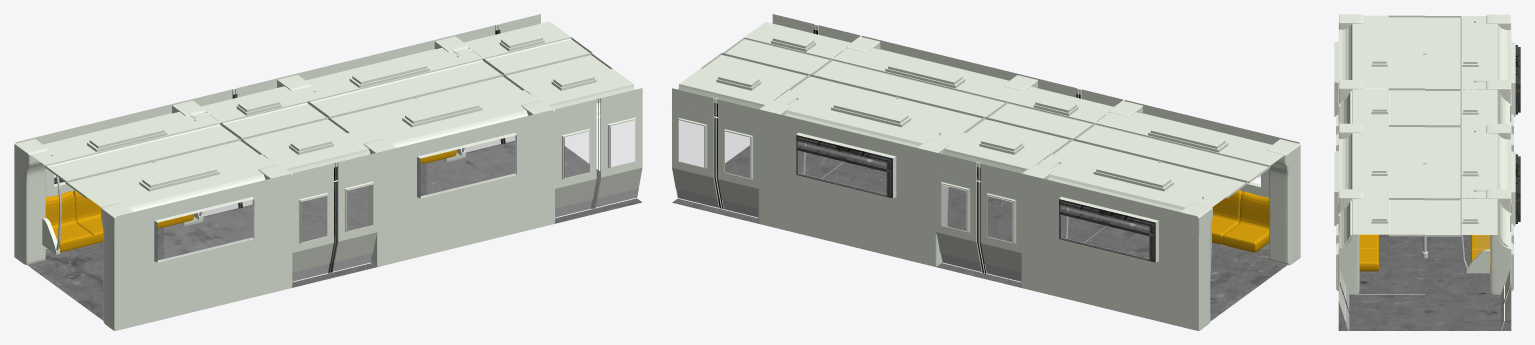
File: Train.glb
The picture shows the model from 3 angles, left to right: view 1: azimuth 30°, elevation 25°; view 2: azimuth 150°, elevation 25°; view 3: azimuth 270°, elevation 25°; orthographic projection. The views are drawn at different scales.
Visible parts, largest first — view 1: Plane.030, Plane.012, Plane.014, Plane.032, Plane.034, Plane.016, Plane.004, Plane.023, Plane, Plane.036, Cube, Plane.018 (+20 smaller); view 2: Plane.020, Plane.001, Plane.004, Plane.023, Plane.008, Plane.026, Plane.014, Plane.032, Plane, Plane.028, Cube.003, Plane.010 (+21 smaller); view 3: Plane.019, Plane.014, Plane.004, Plane.023, Plane.032, Plane.036, Plane.028, Plane.018, Plane.010, Plane.033, Plane.025, Cube.008 (+15 smaller).
Boxes of the visible parts, x1,y1,x2,y2 form: Plane.030: [378, 109, 553, 266]; Plane.012: [116, 174, 290, 330]; Plane.014: [65, 138, 275, 211]; Plane.032: [328, 74, 538, 147]; Plane.034: [555, 88, 642, 218]; Plane.016: [292, 152, 378, 282]; Plane.004: [30, 112, 241, 181]; Plane.023: [293, 48, 503, 117]; Plane: [27, 222, 229, 320]; Plane.036: [503, 53, 634, 117]; Cube: [14, 100, 205, 264]; Plane.018: [241, 117, 370, 181]; Plane.020: [759, 109, 934, 266]; Plane.001: [1022, 173, 1197, 330]; Plane.004: [1037, 138, 1247, 211]; Plane.023: [774, 74, 985, 147]; Plane.008: [934, 152, 1022, 282]; Plane.026: [672, 88, 759, 217]; Plane.014: [1074, 112, 1284, 183]; Plane.032: [811, 48, 1021, 117]; Plane: [1084, 224, 1286, 321]; Plane.028: [671, 53, 809, 118]; Cube.003: [1109, 100, 1300, 265]; Plane.010: [943, 117, 1071, 182]; Plane.019: [1358, 234, 1491, 294]; Plane.014: [1338, 15, 1424, 94]; Plane.004: [1425, 16, 1511, 94]; Plane.023: [1425, 125, 1511, 203]; Plane.032: [1338, 125, 1424, 203]; Plane.036: [1338, 198, 1424, 248]; Plane.028: [1425, 198, 1511, 249]; Plane.018: [1338, 88, 1424, 130]; Plane.010: [1425, 89, 1511, 130]; Plane.033: [1338, 294, 1424, 330]; Plane.025: [1425, 294, 1511, 330]; Cube.008: [1339, 123, 1363, 294].
Bounding box in the file's own units: 12.08 × 2.57 × 4.44.
Materials: 7 (3 with a texture image).
